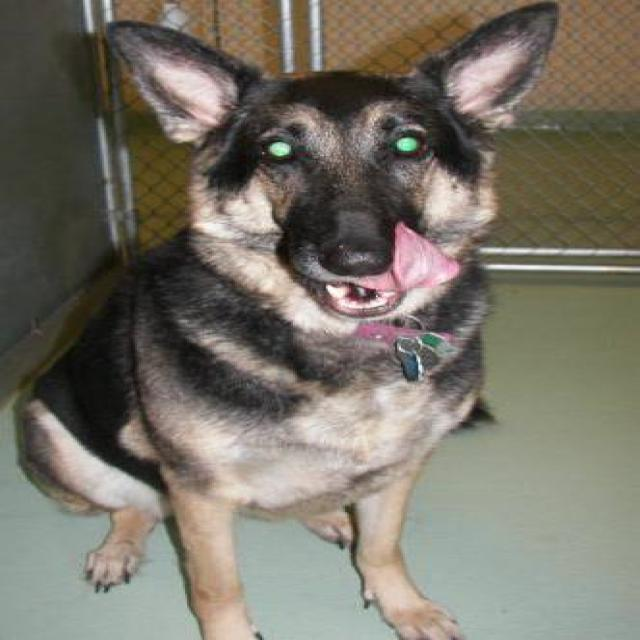dog: (14, 0, 559, 639)
